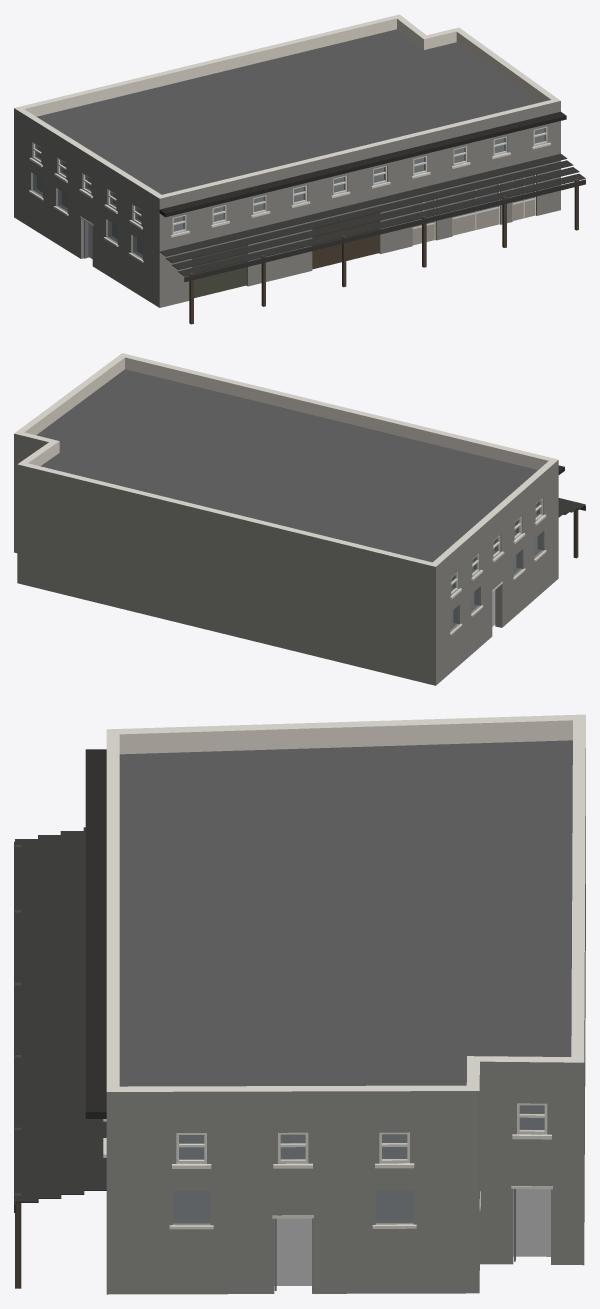
File: exterior.glb
3 renders of one model, top to bottom at view 1: azimuth 30°, elevation 25°; view 2: azimuth 150°, elevation 25°; view 3: azimuth 270°, elevation 25°, orthographic. The views are drawn at different scales.
Visible parts, largest first — view 1: shell, roof, awning-spans-4, hand-ornament, storefront, glazing, awning-valance-4, shadow-proxy, frames, trim; view 2: shell, roof, glazing, frames, trim; view 3: roof, shell, awning-spans-4, shadow-proxy, hand-ornament, glazing, frames, trim.
Boxes of the visible parts, box(x1,y1,x2,y2) form: shell: box(14, 14, 560, 307); roof: box(36, 29, 539, 194); awning-spans-4: box(160, 153, 585, 278); hand-ornament: box(159, 111, 578, 324); storefront: box(80, 174, 535, 298); glazing: box(33, 128, 545, 257); awning-valance-4: box(184, 179, 585, 281); shadow-proxy: box(37, 128, 544, 258); frames: box(33, 126, 547, 233); trim: box(28, 142, 550, 262); shell: box(14, 353, 558, 685); roof: box(36, 369, 537, 562); glazing: box(450, 501, 541, 629); frames: box(451, 498, 542, 594); trim: box(449, 514, 546, 635); roof: box(119, 740, 572, 1086); shell: box(106, 714, 585, 1294); awning-spans-4: box(15, 827, 106, 1212); shadow-proxy: box(173, 1105, 550, 1285); hand-ornament: box(15, 749, 106, 1288); glazing: box(172, 1105, 544, 1223); frames: box(176, 1103, 547, 1163); trim: box(103, 1119, 551, 1229).
Bounding box in the file's own units: 23.59 × 5.88 × 15.05.
